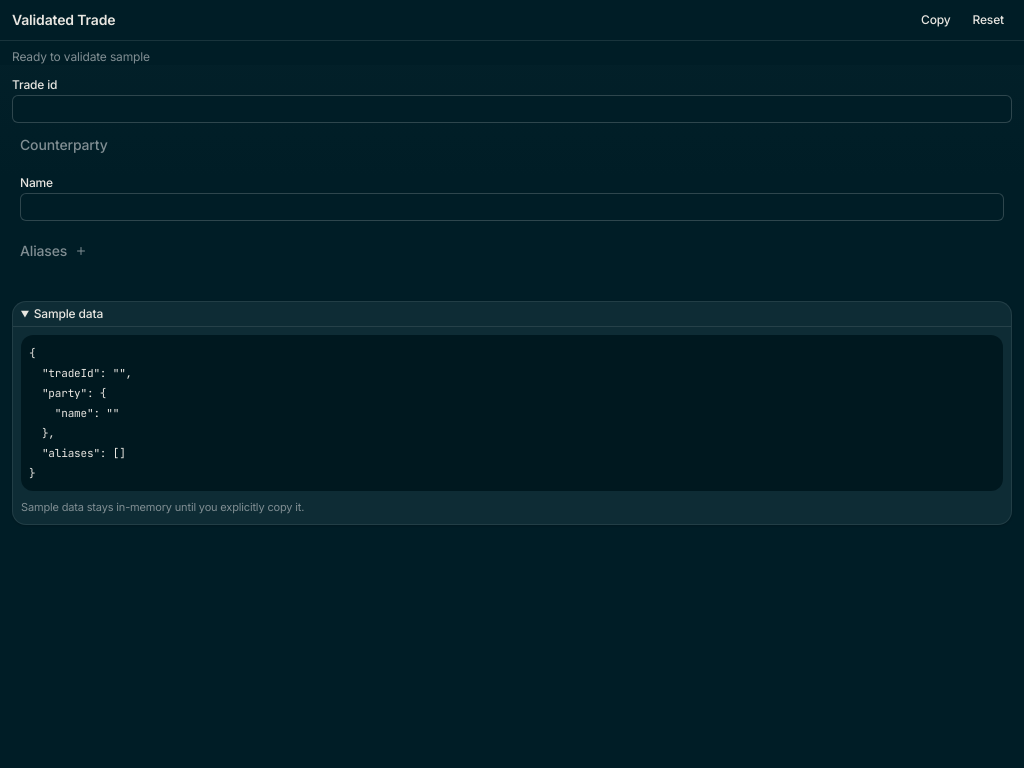
Test: FormPreviewPanel › renders synchronized sample data and copies it through the clipboard action
Type "TRD-1" into the field labelled "Trade id" at (512, 109), box [12,95,1012,123]
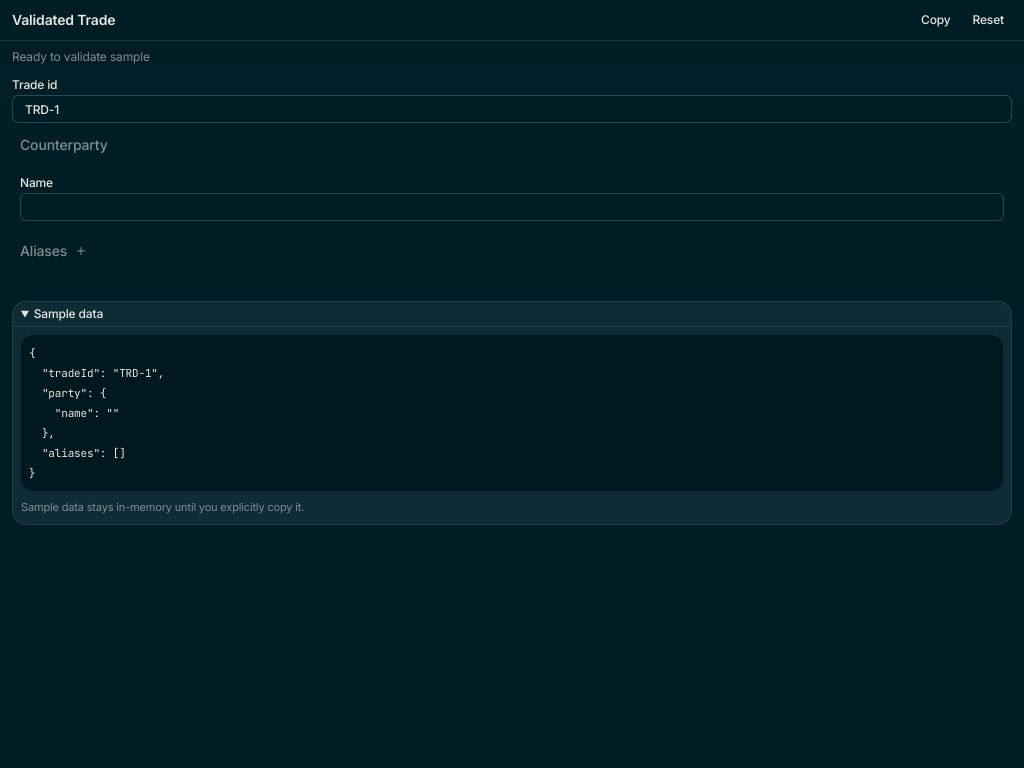
Type "Acme Bank" into the field labelled "Name" at (512, 207), box [20,193,1004,221]
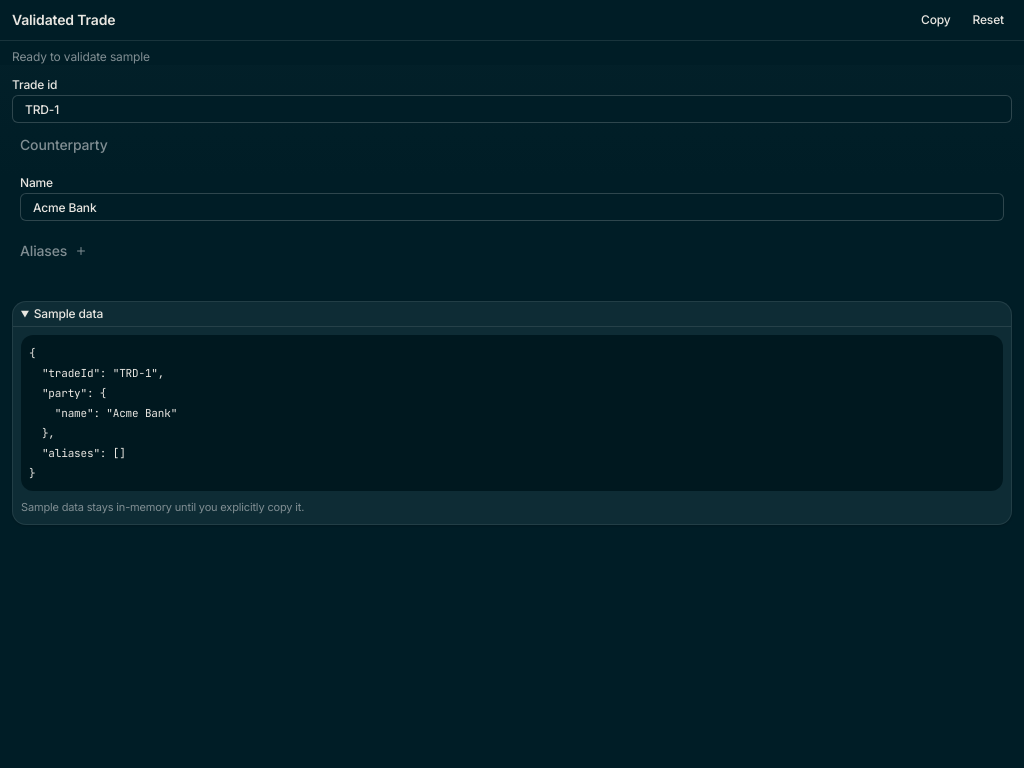
Click the button named "add aliases item" at (81, 251), box [73,243,89,259]
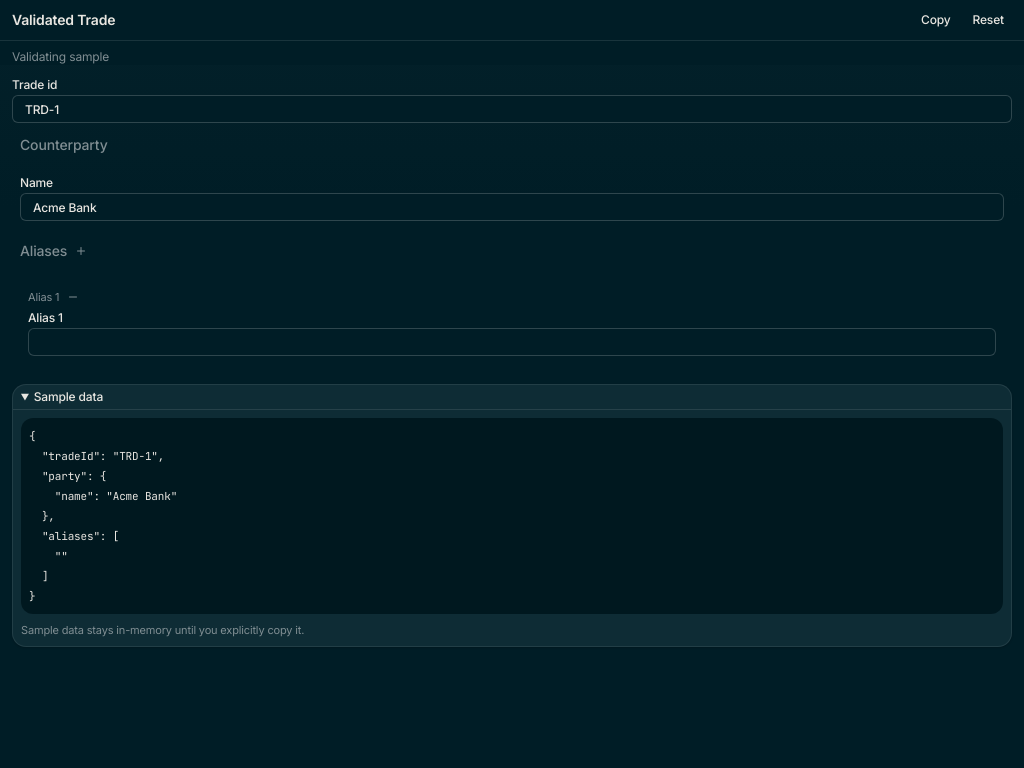
Type "Desk alias" into the field labelled "Alias 1" at (512, 342), box [28,328,996,356]
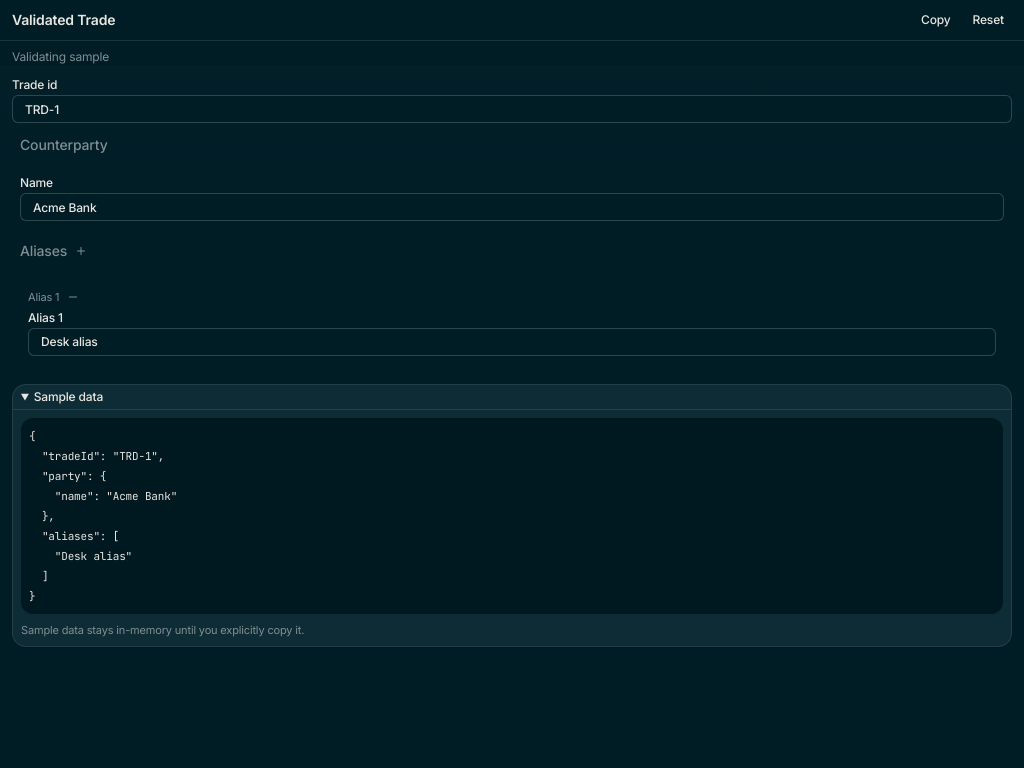
Result: the text with test id "sample-data-output" shows "\"tradeId\": \"TRD-1\"" at [29,428,177,602]
Result: the text with test id "sample-data-output" shows "\"name\": \"Acme Bank\"" at [29,428,177,602]
Result: the text with test id "sample-data-output" shows "\"Desk alias\"" at [29,428,177,602]
Click the button "Copy" at (936, 20), box [913,8,958,32]
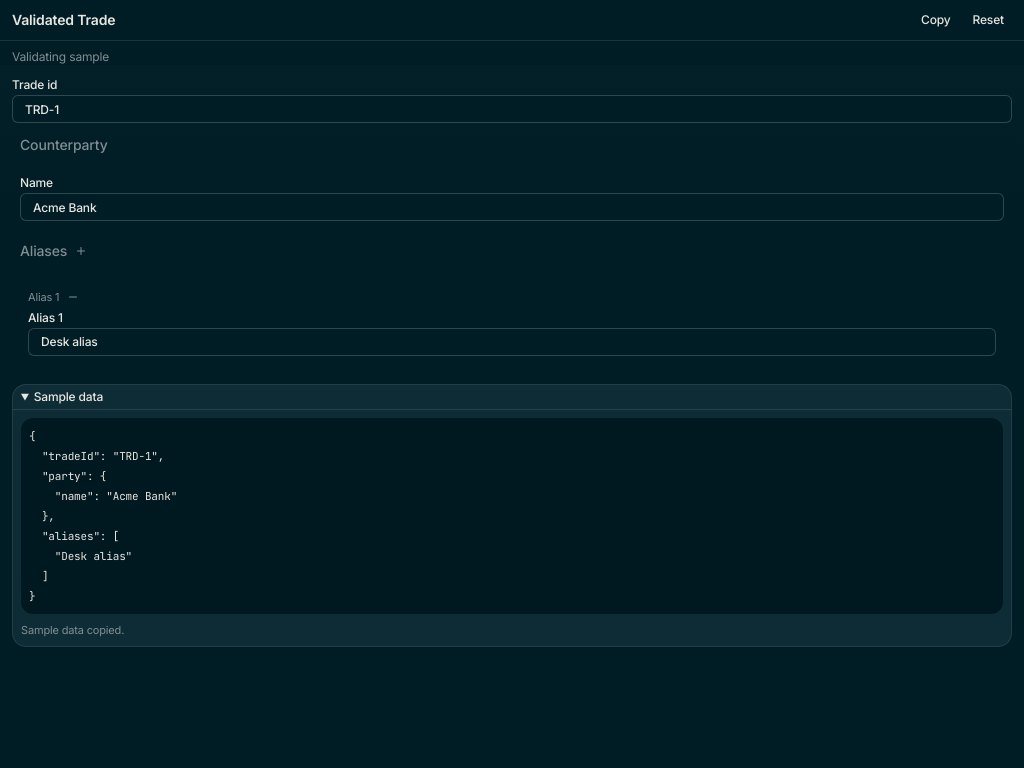
Result: the text "Sample data copied." is shown at [21,622,124,636]
